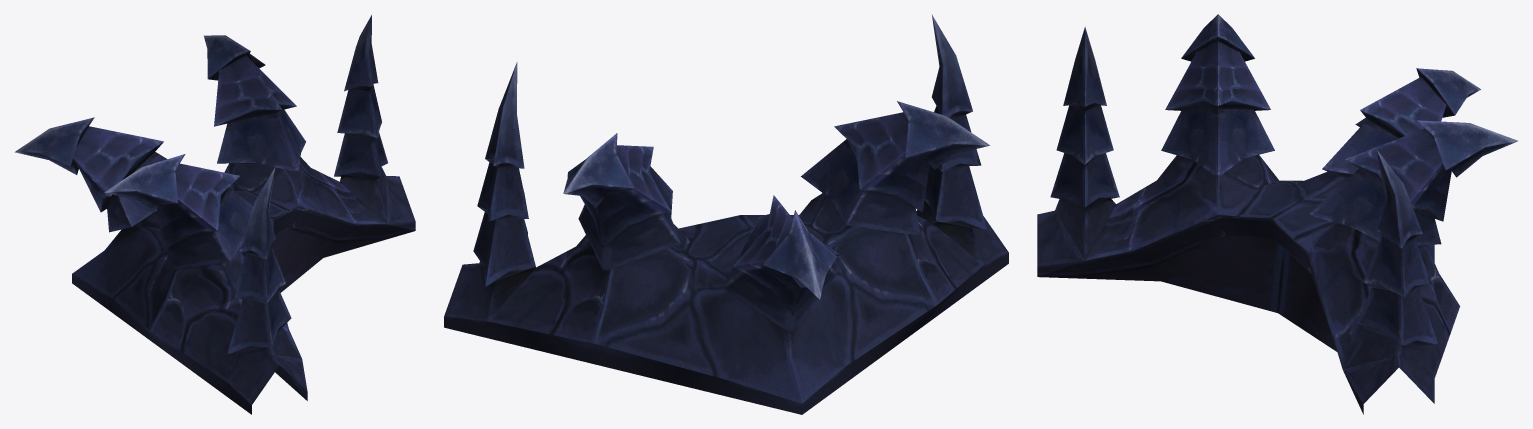
Rendered from palace_rail_concave_01.fbx.
3 renders of one model, left to right at view 1: azimuth 30°, elevation 25°; view 2: azimuth 150°, elevation 25°; view 3: azimuth 270°, elevation 25°, orthographic. The views are drawn at different scales.
Visible parts, largest first — view 1: palace_rail_concave_01-0; view 2: palace_rail_concave_01-0; view 3: palace_rail_concave_01-0.
Boxes of the visible parts, x1,y1,x2,y2 form: palace_rail_concave_01-0: [15, 15, 415, 414]; palace_rail_concave_01-0: [444, 14, 1008, 414]; palace_rail_concave_01-0: [1037, 14, 1517, 414].
Size of the model in its own units: 5.32 by 2.99 by 5.32.
